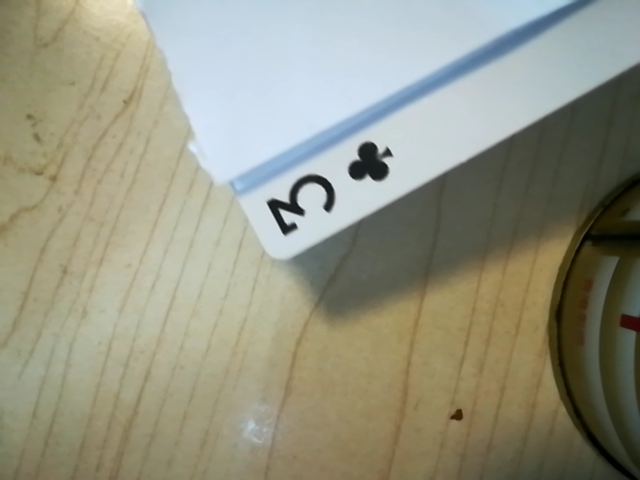mh 3: (255, 133, 405, 249)
